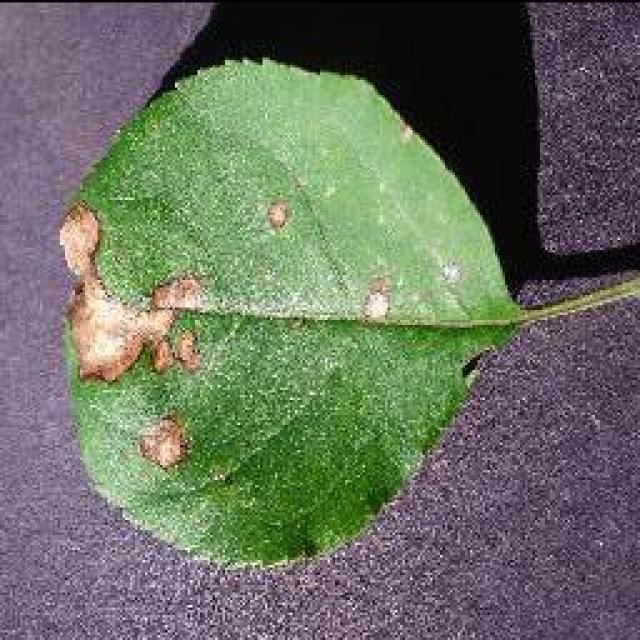Black_rot: (55, 52, 637, 572)
